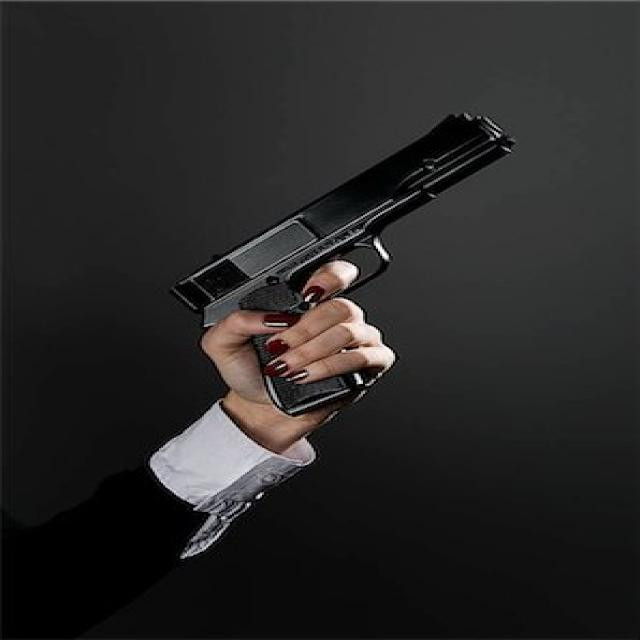HandGun: (170, 114, 515, 418)
